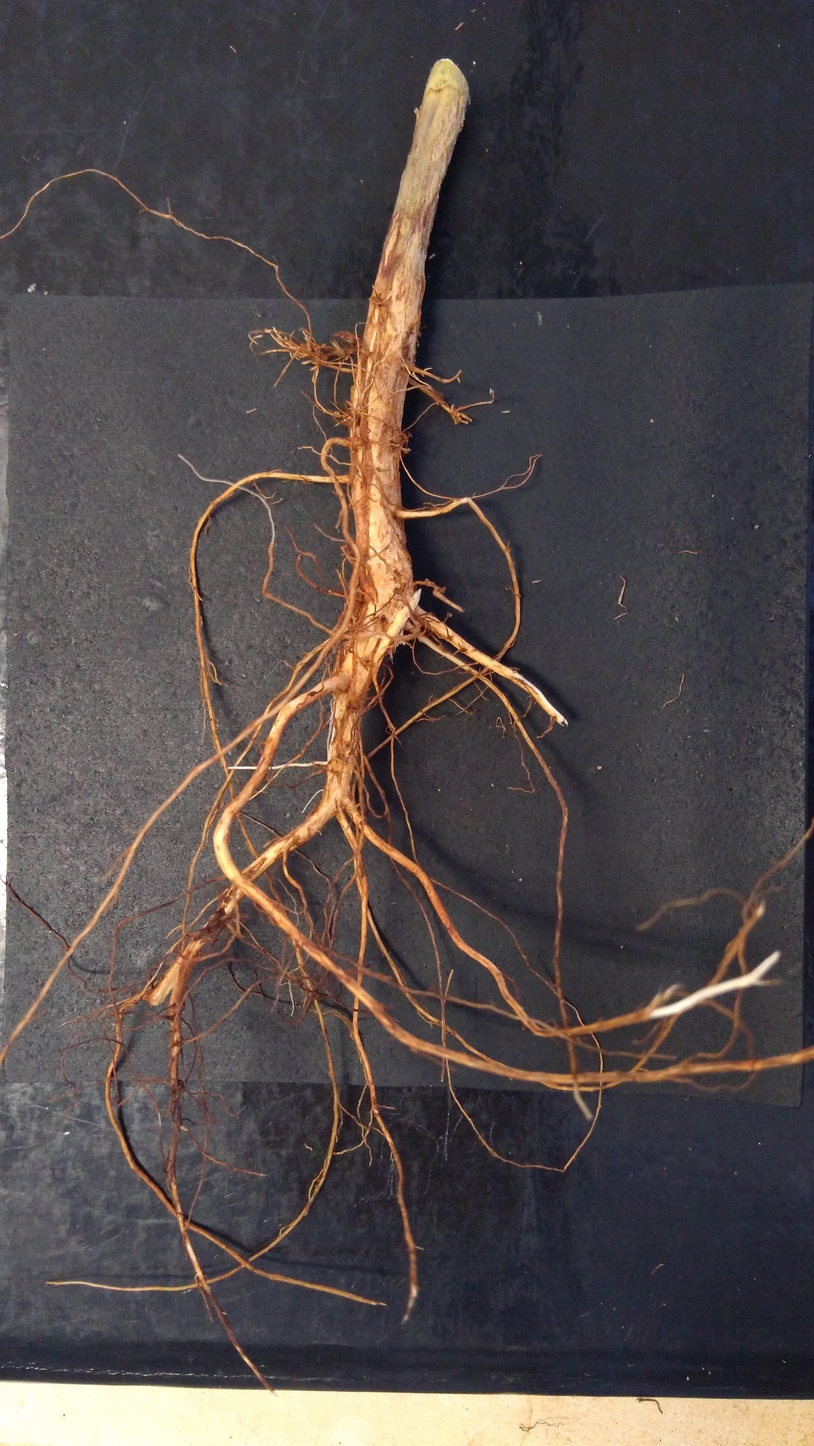nodule: (333, 331, 361, 348), (341, 600, 362, 622), (291, 344, 312, 359), (346, 586, 365, 602), (231, 910, 250, 924), (334, 411, 340, 416), (447, 612, 453, 617)
